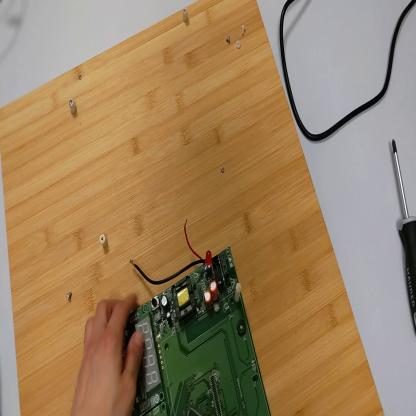hand: (72, 292, 143, 414)
low voltage board: (123, 220, 271, 416)
screwdriver-: (394, 139, 416, 338)
working area: (2, 2, 385, 415)
